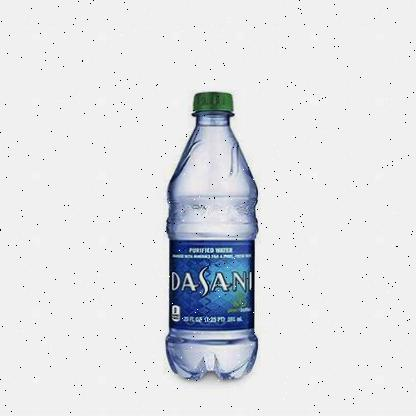Plastic Bottle: (166, 92, 258, 380)
